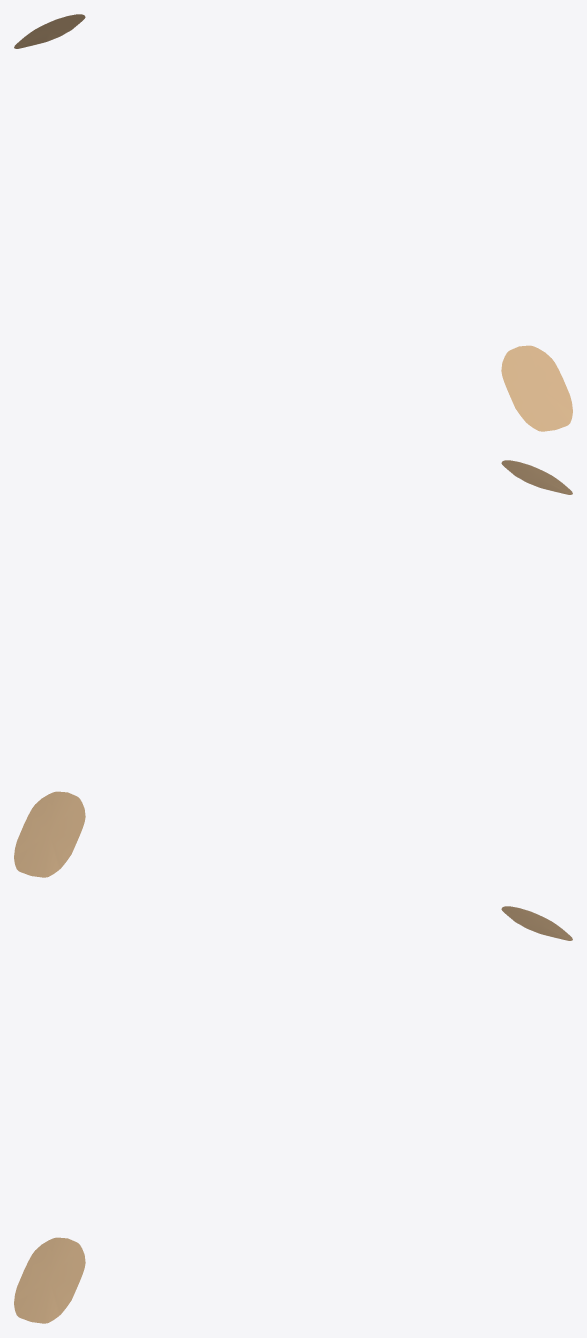
The model's file is REENTRY_CRAFT_DOOR_INT_WINDOWS.fbx.
3 views of the same model, one above another, from view 1: azimuth 30°, elevation 25°; view 2: azimuth 150°, elevation 25°; view 3: azimuth 330°, elevation 25° (orthographic).
Visible parts, largest first — view 1: POD_DOOR_02_INTonly_GEO2, POD_DOOR_01_INTonly_GEO2; view 2: POD_DOOR_01_INTonly_GEO2, POD_DOOR_02_INTonly_GEO2; view 3: POD_DOOR_02_INTonly_GEO2, POD_DOOR_01_INTonly_GEO2.
Part boxes in pixels (<box>): POD_DOOR_02_INTonly_GEO2: <box>501,345,572,431</box>; POD_DOOR_01_INTonly_GEO2: <box>14,14,85,48</box>; POD_DOOR_01_INTonly_GEO2: <box>14,791,85,877</box>; POD_DOOR_02_INTonly_GEO2: <box>501,460,572,494</box>; POD_DOOR_02_INTonly_GEO2: <box>14,1237,85,1323</box>; POD_DOOR_01_INTonly_GEO2: <box>501,906,572,940</box>.
Size of the model in its own units: 0.003 by 0.00296 by 0.0496.
